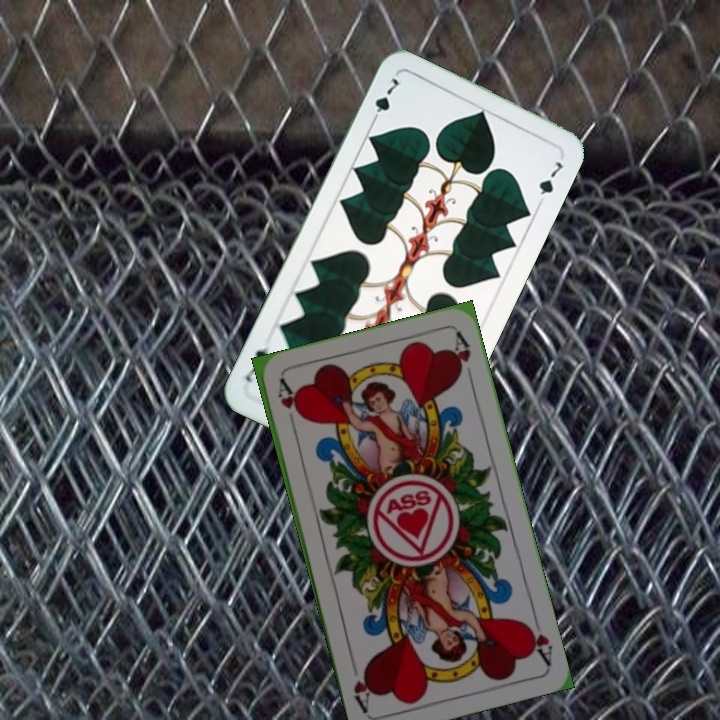G7: (366, 73, 402, 127)
HA: (521, 609, 555, 667), (273, 375, 302, 434)
